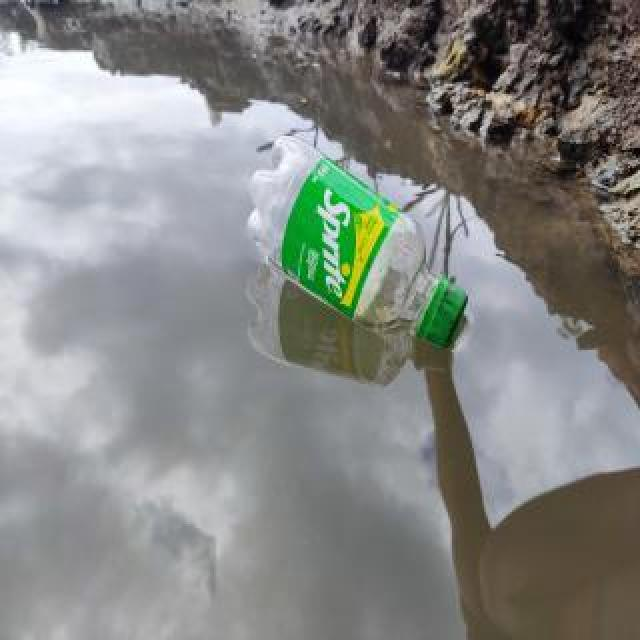bottle: (243, 127, 473, 355)
